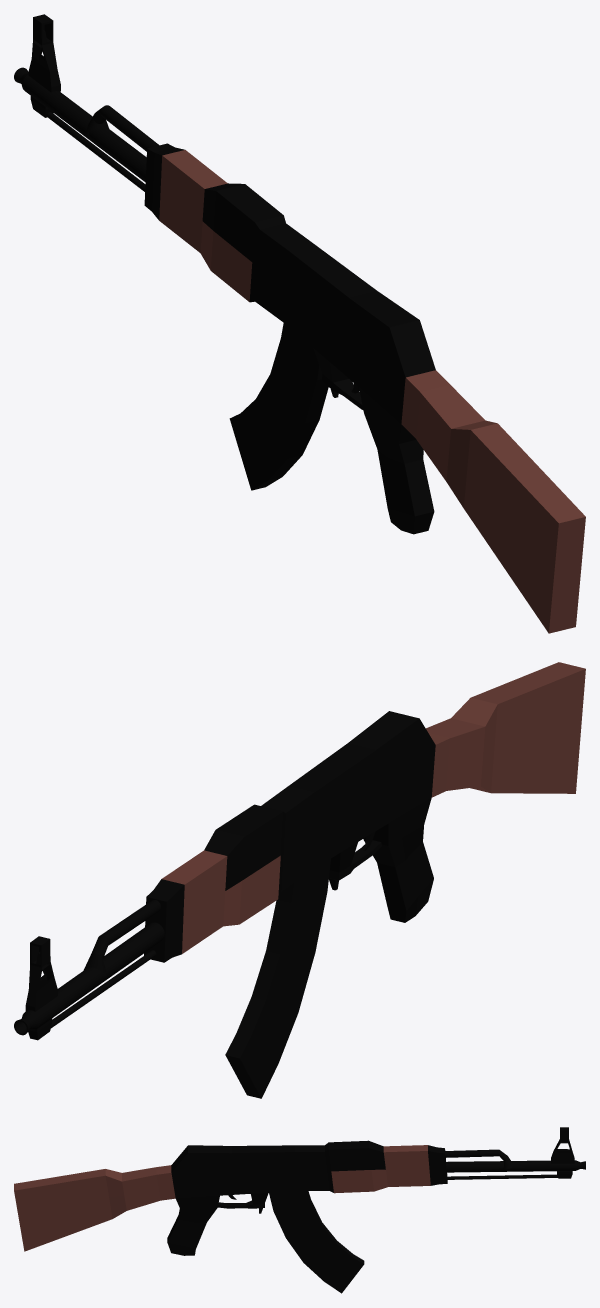
3 renders of one model, top to bottom at view 1: azimuth 30°, elevation 25°; view 2: azimuth 150°, elevation 25°; view 3: azimuth 270°, elevation 25°, orthographic. The views are drawn at different scales.
Parts seen in each view (by area): view 1: Cube, Cube.002; view 2: Cube, Cube.002; view 3: Cube, Cube.002.
Part boxes in pixels (x1,y1,x2,y2): Cube: (14, 14, 585, 633); Cube.002: (229, 323, 328, 490); Cube: (14, 662, 585, 1040); Cube.002: (225, 859, 330, 1098); Cube: (14, 1127, 585, 1255); Cube.002: (269, 1191, 364, 1293).
Size of the model in its own units: 0.1666 by 1.44 by 4.59.
Materials: 1 (1 with a texture image).
